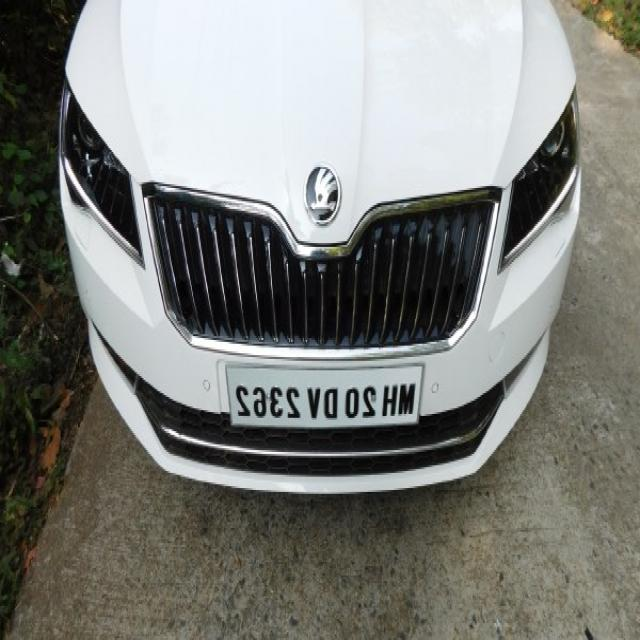license_plate: (223, 358, 425, 433)
